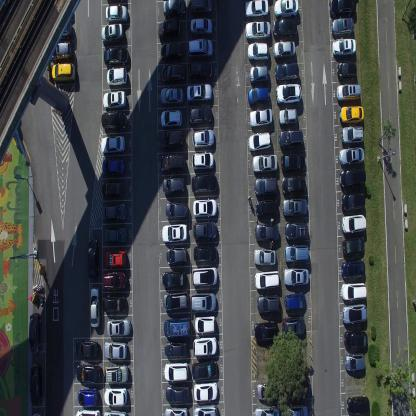car: (163, 315, 191, 338), (339, 166, 366, 188), (275, 83, 302, 105), (160, 152, 185, 175), (188, 37, 213, 60), (341, 302, 367, 324), (28, 311, 41, 355), (29, 362, 42, 406), (192, 358, 218, 380), (192, 335, 218, 357), (163, 290, 189, 312), (192, 265, 218, 287), (341, 212, 367, 234), (336, 82, 362, 104), (252, 152, 278, 174), (186, 82, 212, 104), (102, 270, 127, 292), (159, 129, 184, 151), (278, 128, 303, 150), (341, 190, 366, 212), (272, 18, 297, 40), (193, 381, 219, 402), (192, 220, 218, 241), (191, 172, 217, 193), (163, 361, 189, 382), (280, 176, 306, 197), (245, 20, 271, 41), (103, 46, 129, 67), (100, 134, 126, 155), (252, 321, 279, 341), (284, 379, 311, 399), (75, 362, 102, 382), (161, 222, 188, 242), (190, 292, 217, 312), (340, 282, 367, 302), (281, 316, 305, 338), (256, 293, 280, 315), (102, 201, 126, 223), (332, 36, 356, 58), (156, 18, 180, 40), (100, 23, 124, 45), (346, 394, 370, 416), (283, 267, 309, 287), (192, 198, 218, 218), (254, 270, 280, 290), (87, 236, 99, 279), (101, 178, 124, 200), (341, 124, 364, 146), (331, 15, 354, 37), (189, 60, 212, 82), (255, 223, 279, 244), (254, 176, 278, 197), (284, 221, 308, 242), (275, 62, 299, 83), (248, 131, 272, 152), (249, 107, 273, 128), (48, 40, 72, 61), (165, 384, 190, 404), (104, 364, 129, 384), (341, 260, 366, 280), (339, 146, 364, 166), (51, 62, 76, 82), (339, 105, 365, 124), (243, 0, 269, 19), (101, 112, 127, 131), (247, 40, 269, 62), (342, 235, 365, 256), (247, 86, 270, 107), (160, 85, 183, 106), (103, 89, 126, 110), (104, 340, 128, 360), (343, 329, 367, 349), (164, 338, 188, 358), (162, 269, 186, 289), (281, 152, 305, 172), (189, 106, 213, 126), (160, 42, 184, 62), (274, 0, 299, 19), (282, 198, 308, 216), (192, 128, 214, 149), (166, 245, 188, 266), (274, 40, 296, 61), (249, 63, 270, 85), (106, 66, 127, 88), (103, 387, 127, 406), (253, 247, 277, 266), (161, 64, 185, 83), (193, 244, 218, 262), (106, 318, 131, 336), (102, 295, 128, 312), (284, 291, 306, 311), (194, 314, 216, 334), (190, 17, 212, 37), (160, 108, 182, 128), (50, 16, 72, 36), (75, 340, 98, 359), (191, 151, 214, 170), (162, 176, 185, 195), (254, 198, 277, 217), (105, 4, 128, 23), (104, 250, 128, 268), (284, 244, 308, 262), (104, 226, 128, 244), (189, 0, 213, 18), (337, 60, 357, 81), (344, 352, 366, 371), (102, 158, 125, 176), (163, 0, 186, 18), (90, 287, 100, 328), (329, 0, 356, 15), (256, 382, 278, 400), (166, 202, 188, 220), (278, 107, 298, 126), (78, 388, 99, 406), (285, 402, 308, 415), (194, 403, 218, 415), (254, 405, 280, 415), (164, 406, 188, 416)
